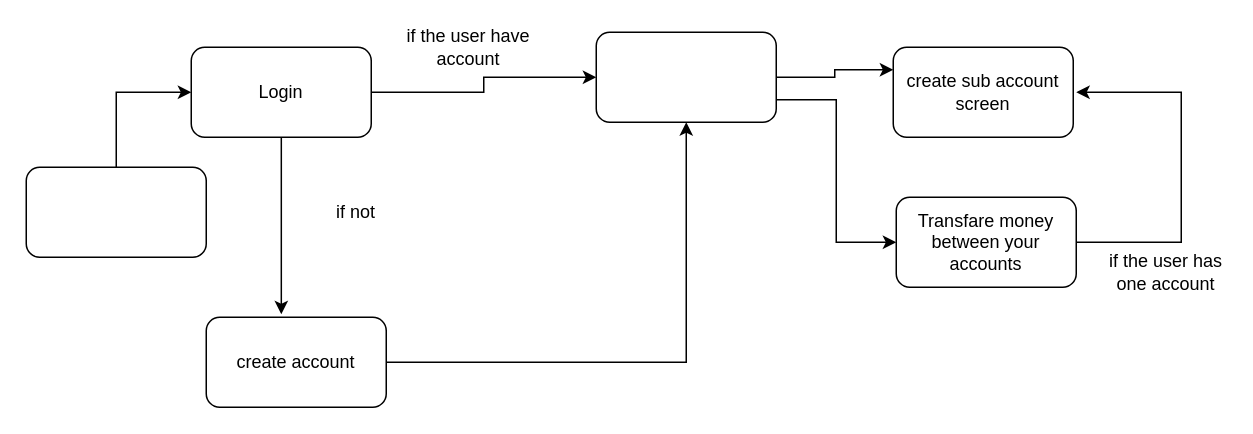
Image size: 1253x434. Some labels were removed from this diagram. Here are the shapes that lost their labels. From the top down, the centre of each, then its label:
At (685,76): "create subaccount or transfare money options".
At (115,211): "register or login".
